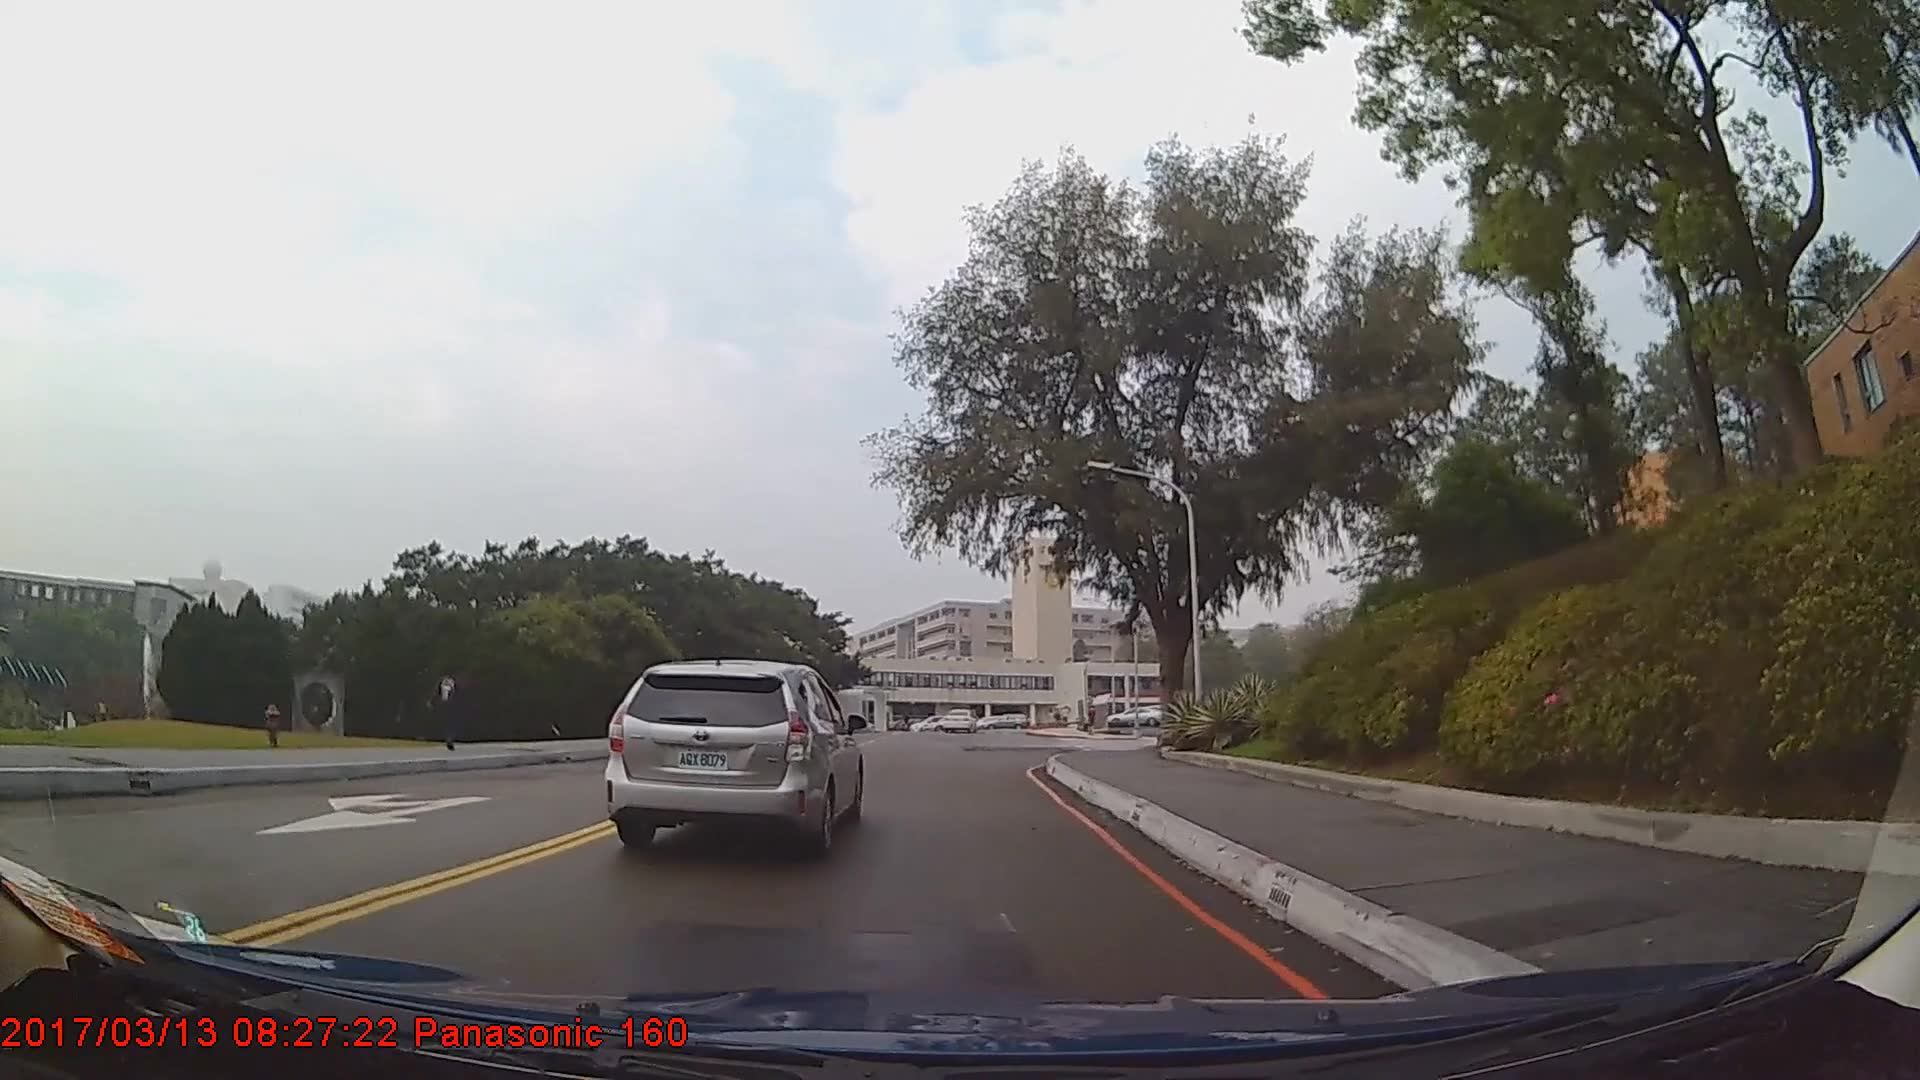pedestrian: (426, 658, 471, 754)
vehicle: (600, 657, 863, 853), (940, 704, 977, 731)
